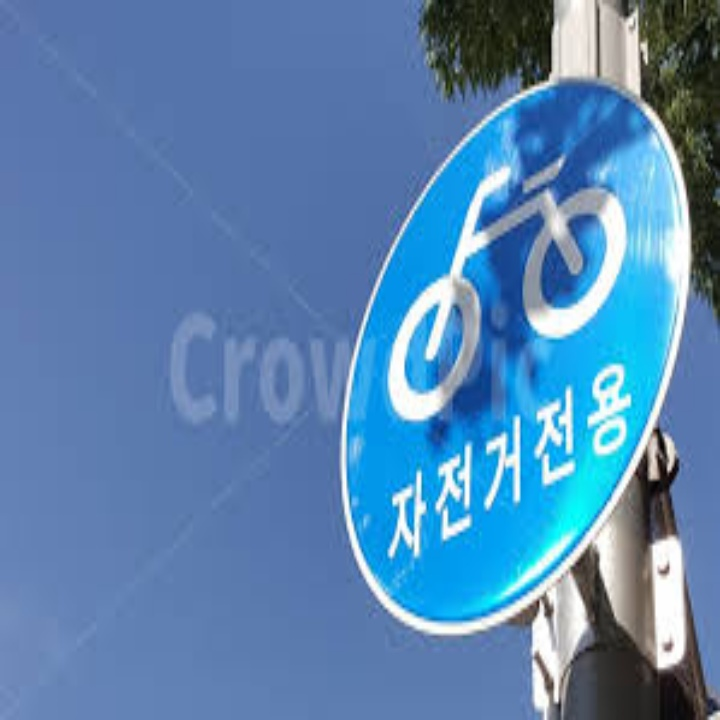bicycle: (381, 153, 629, 420)
